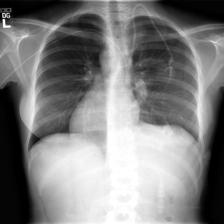normal: (25, 7, 205, 160)
